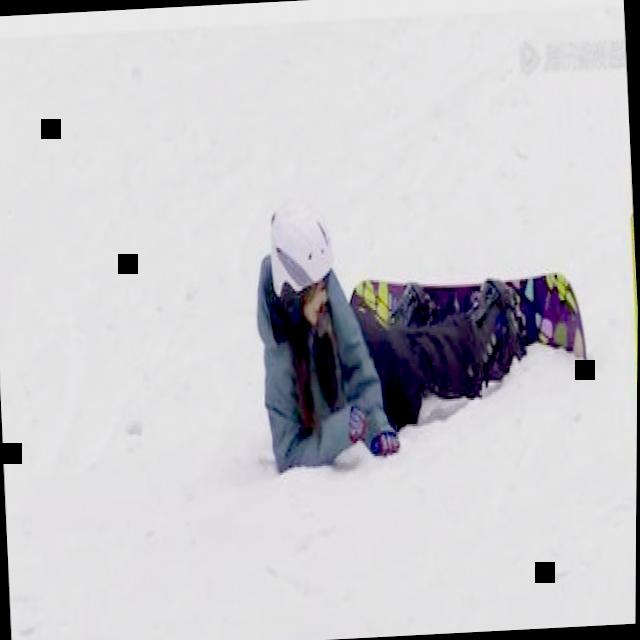Fall-Detected: (238, 160, 602, 498)
